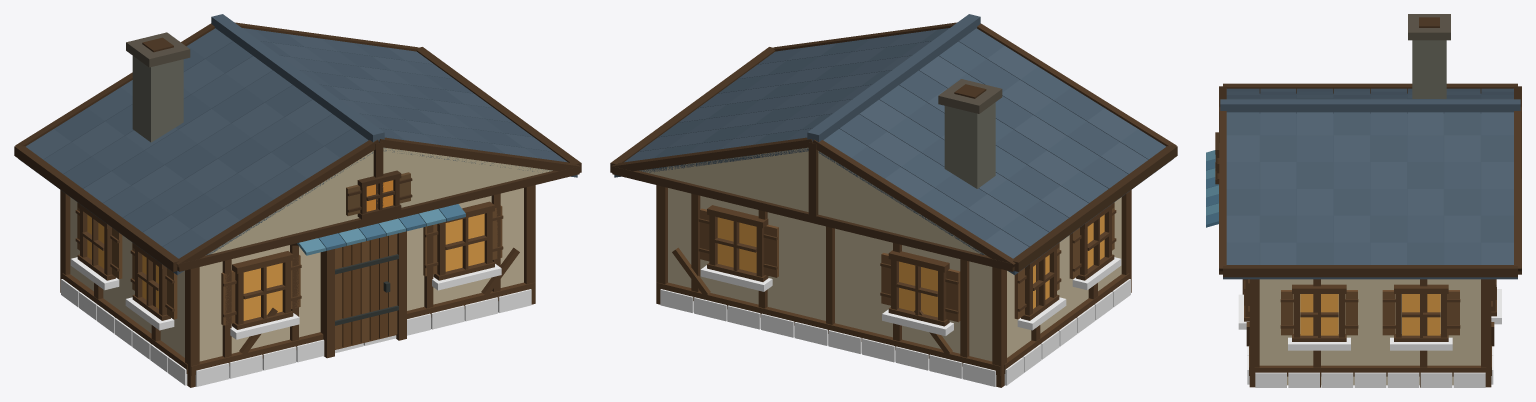
File: item_shop.glb
3 views of the same model, side by side, from view 1: azimuth 30°, elevation 25°; view 2: azimuth 150°, elevation 25°; view 3: azimuth 270°, elevation 25° (orthographic). The views are drawn at different scales.
Parts seen in each view (by area): view 1: item_shop; view 2: item_shop; view 3: item_shop.
Part boxes in pixels (x1,y1,x2,y2): item_shop: (14,14,581,387); item_shop: (610,14,1177,387); item_shop: (1206,14,1521,387).
Bounding box in the file's own units: 8.16 × 4.91 × 5.89.
